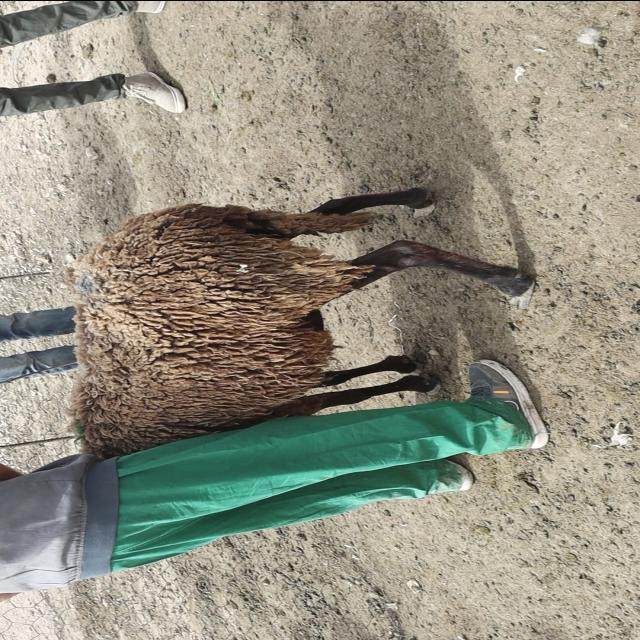Score_1: (66, 187, 533, 458)
